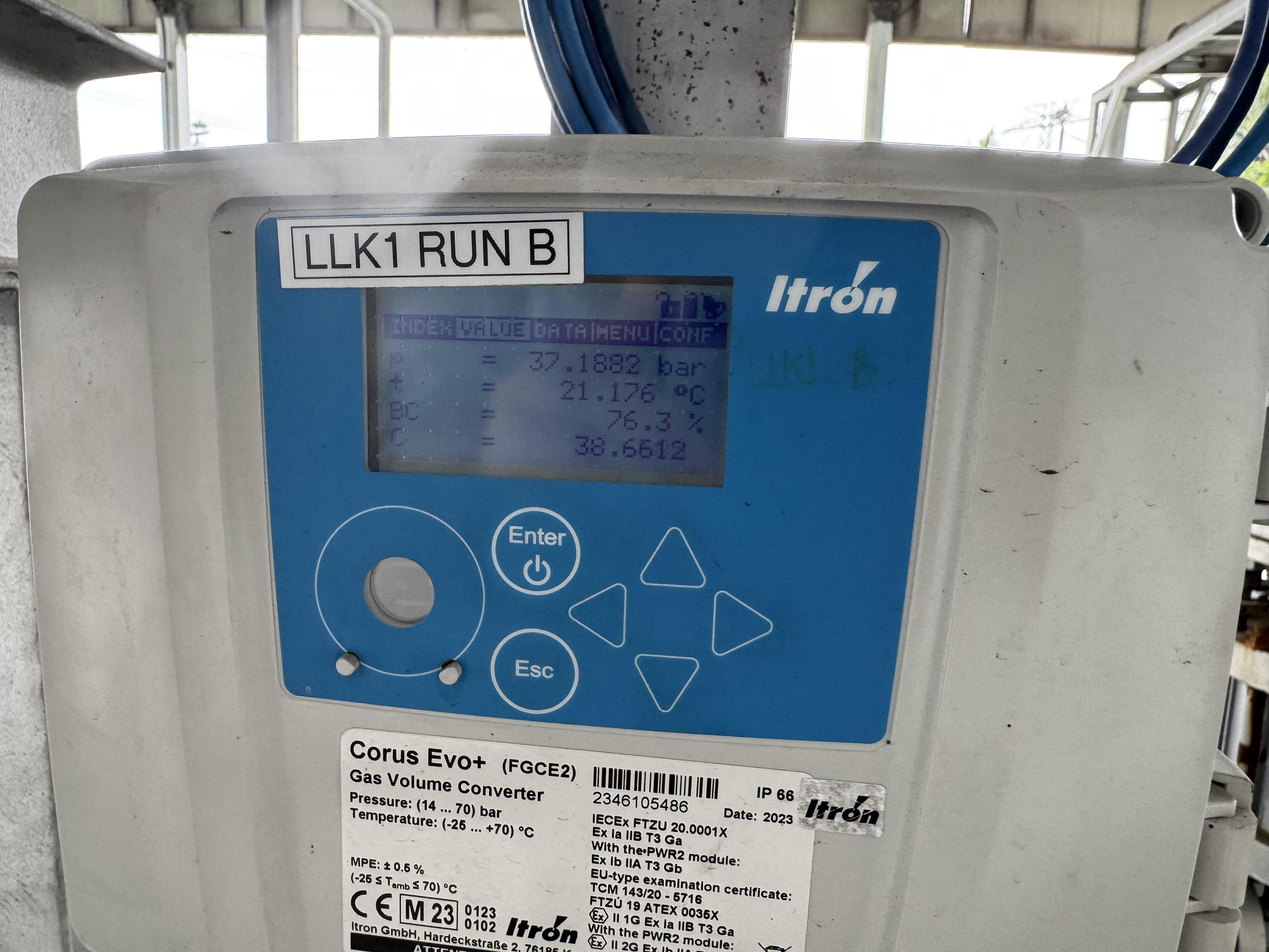digital_screen: (353, 262, 733, 488)
